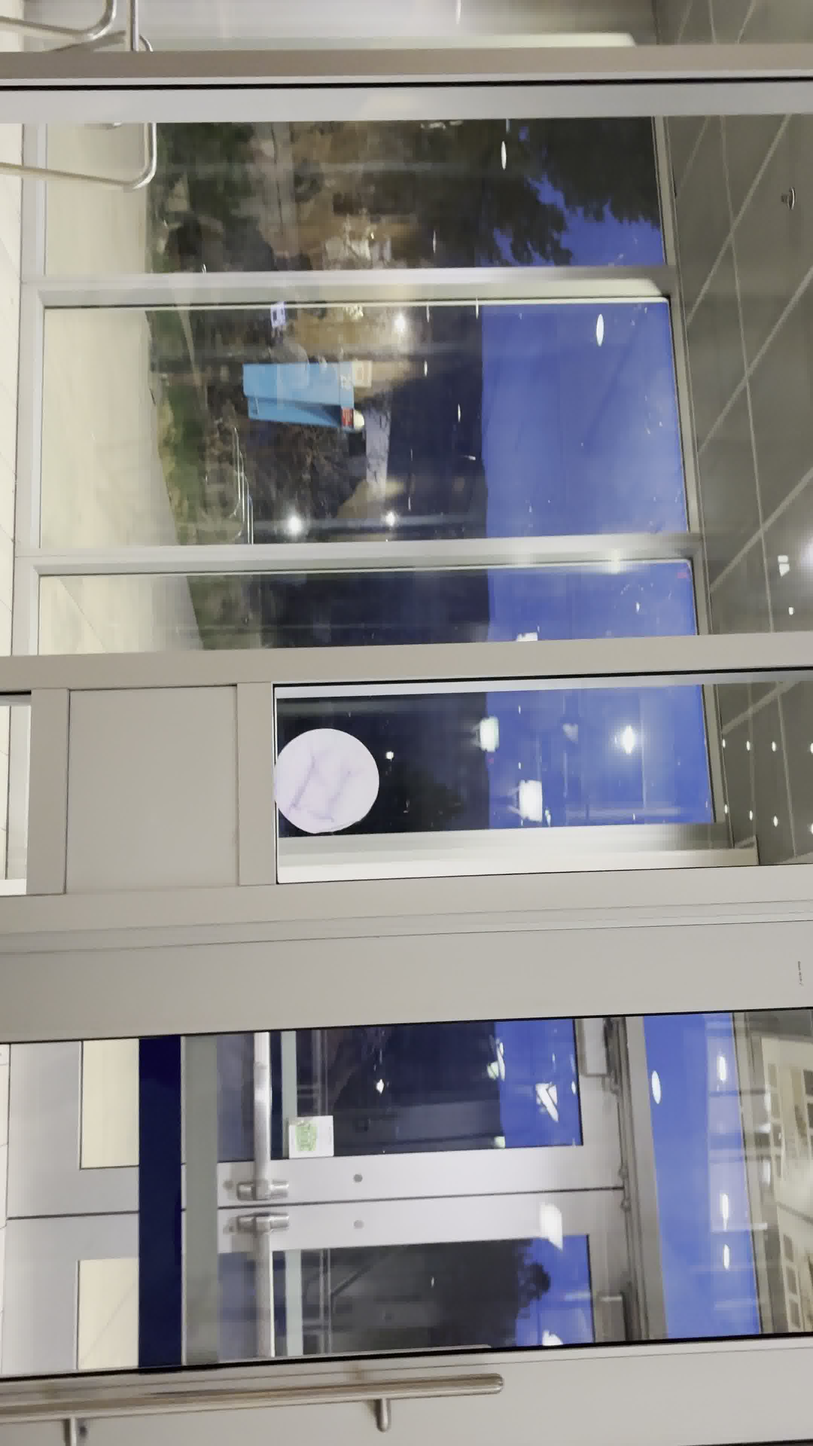Target: (270, 726, 381, 836)
